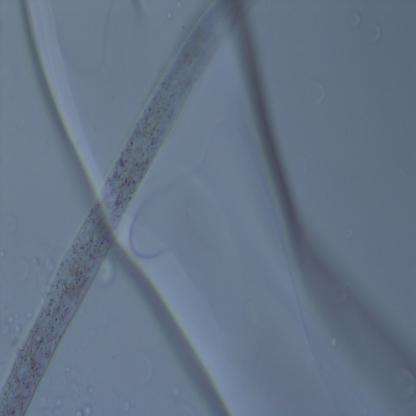Background material: (227, 28, 416, 404), (105, 227, 232, 416), (12, 1, 100, 201), (124, 155, 220, 263), (342, 2, 384, 46), (304, 72, 330, 112), (126, 0, 147, 20)
Microfibre: (0, 1, 255, 416)
